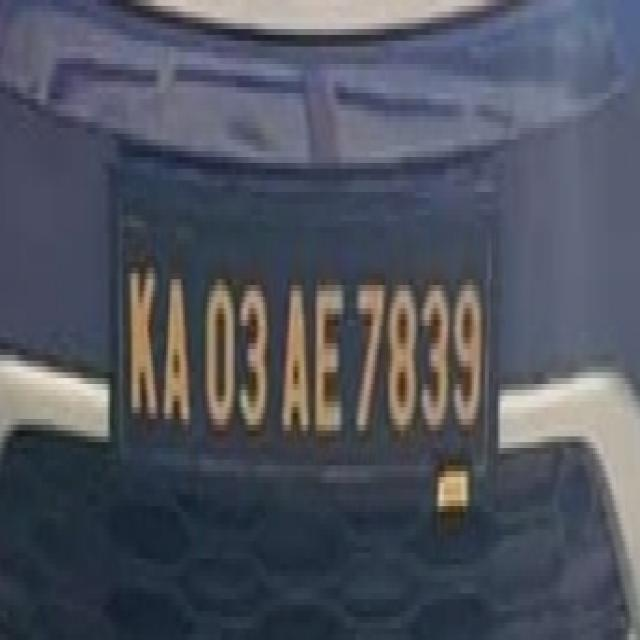0: (203, 267, 239, 442)
3: (235, 250, 272, 438), (420, 267, 451, 453)
7: (352, 261, 387, 437)
8: (386, 266, 419, 447)
9: (450, 257, 484, 445)
A: (280, 272, 314, 446), (162, 254, 190, 438)
E: (309, 255, 346, 445)
K: (126, 249, 160, 427)
